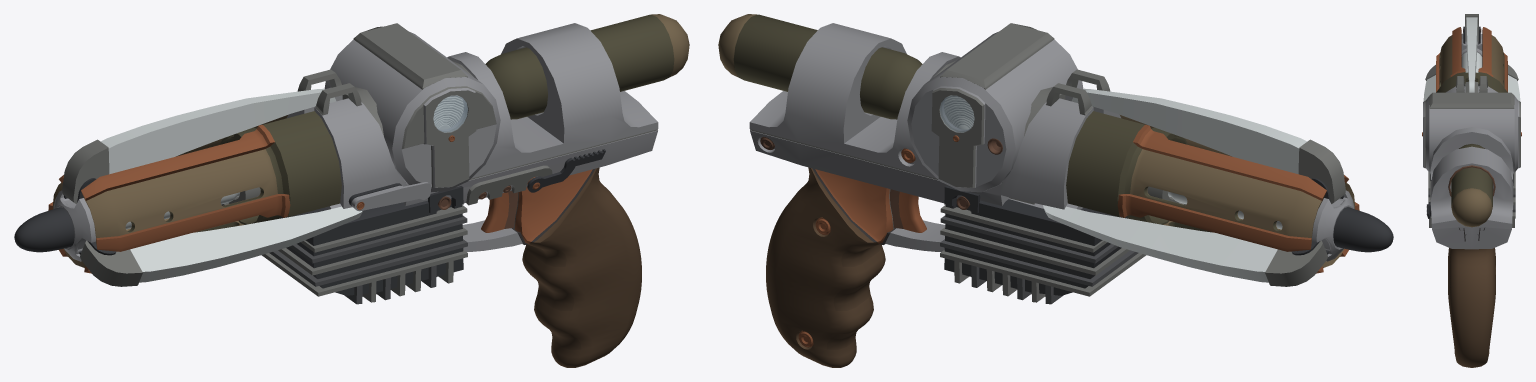
The model's file is hookgunRedux1.fbx.
The picture shows the model from 3 angles, left to right: view 1: azimuth 30°, elevation 25°; view 2: azimuth 150°, elevation 25°; view 3: azimuth 270°, elevation 25°; orthographic projection. The views are drawn at different scales.
Visible parts, largest first — view 1: Cylinder.002, Cube.001, Cylinder, Cylinder.004, Cylinder.003, Cube.010, Cube.026, Cube.025, Cylinder.010, Cube, Cylinder.013, Cylinder.014 (+15 smaller); view 2: Cylinder.002, Cube.001, Cylinder, Cylinder.004, Cylinder.003, Cube.009, Cube.010, Cube.025, Cylinder.010, Cube, Cylinder.014, Cylinder.013 (+11 smaller); view 3: Cylinder.002, Cube.001, Cylinder.004, Cylinder.003, Cylinder, Cylinder.013, Cylinder.010, Cube.025, Cylinder.014, Cylinder.022, Cube.010, Cylinder.037 (+6 smaller).
Part boxes in pixels (x1,y1,x2,y2): Cylinder.002: (287, 23, 658, 209); Cube.001: (514, 167, 641, 367); Cylinder: (52, 111, 341, 267); Cylinder.004: (324, 32, 500, 191); Cylinder.003: (485, 14, 689, 119); Cube.010: (261, 205, 467, 296); Cube.026: (130, 206, 362, 282); Cube.025: (101, 88, 336, 174); Cylinder.010: (48, 124, 290, 273); Cube: (280, 195, 463, 295); Cylinder.013: (353, 23, 467, 89); Cylinder.014: (422, 86, 476, 187); Cylinder.002: (749, 23, 1120, 209); Cube.001: (766, 167, 893, 367); Cylinder: (1066, 111, 1355, 267); Cylinder.004: (907, 32, 1083, 192); Cylinder.003: (718, 14, 922, 119); Cube.009: (1043, 205, 1277, 282); Cube.010: (940, 205, 1146, 296); Cube.025: (1071, 88, 1306, 174); Cylinder.010: (1117, 124, 1359, 273); Cube: (944, 195, 1127, 295); Cylinder.014: (931, 86, 985, 187); Cylinder.013: (940, 23, 1054, 89); Cylinder.002: (1430, 86, 1513, 249); Cube.001: (1448, 248, 1495, 367); Cylinder.004: (1426, 96, 1517, 172); Cylinder.003: (1451, 144, 1492, 227); Cylinder: (1436, 35, 1507, 92); Cylinder.013: (1429, 92, 1514, 108); Cylinder.010: (1436, 27, 1507, 92); Cube.025: (1466, 17, 1477, 92); Cylinder.014: (1423, 100, 1520, 168); Cylinder.022: (1456, 76, 1487, 92); Cube.010: (1428, 172, 1515, 218); Cylinder.037: (1448, 165, 1495, 196).
Bounding box in the file's own units: 6013 × 3021 × 1261.
